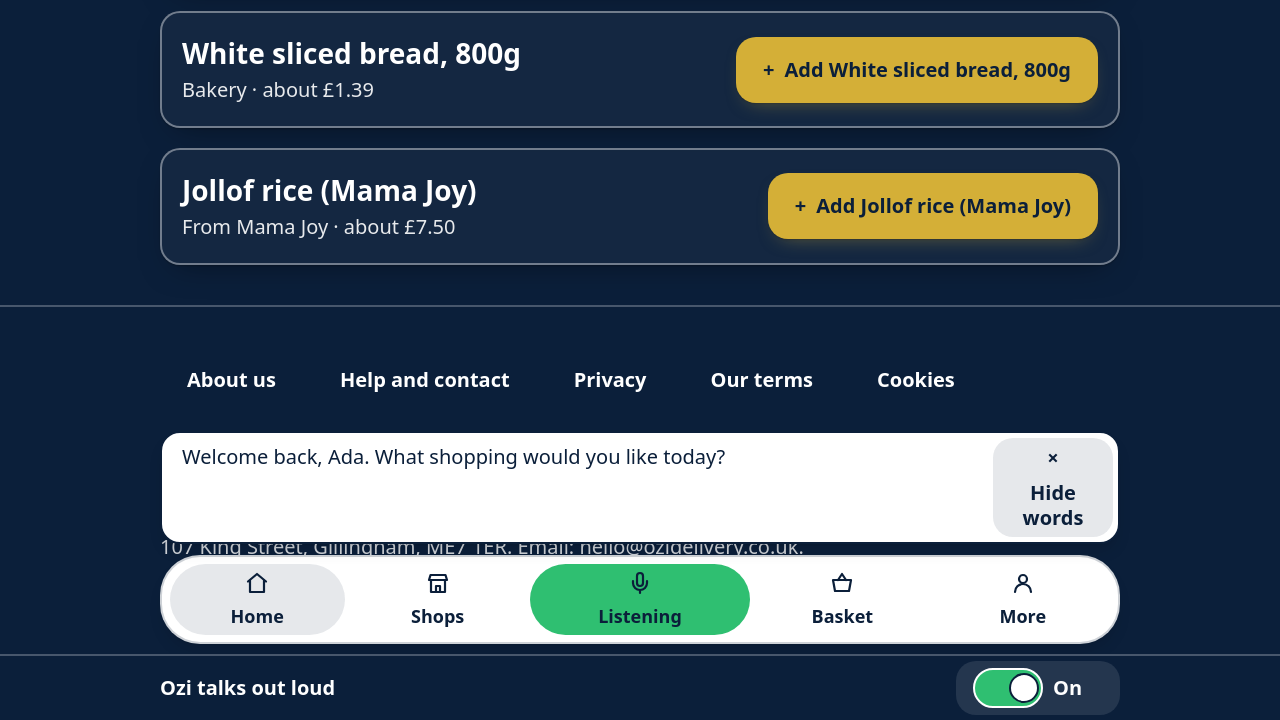
it: the checkout, and what stopped people › shows the whole breakdown before paying, and records the checkout it showed
The width and height of the screenshot is (1280, 720).
(page scrolled)
Click the button "+ Add Jollof rice (Mama Joy)": (933,206) [768,173,1098,239]
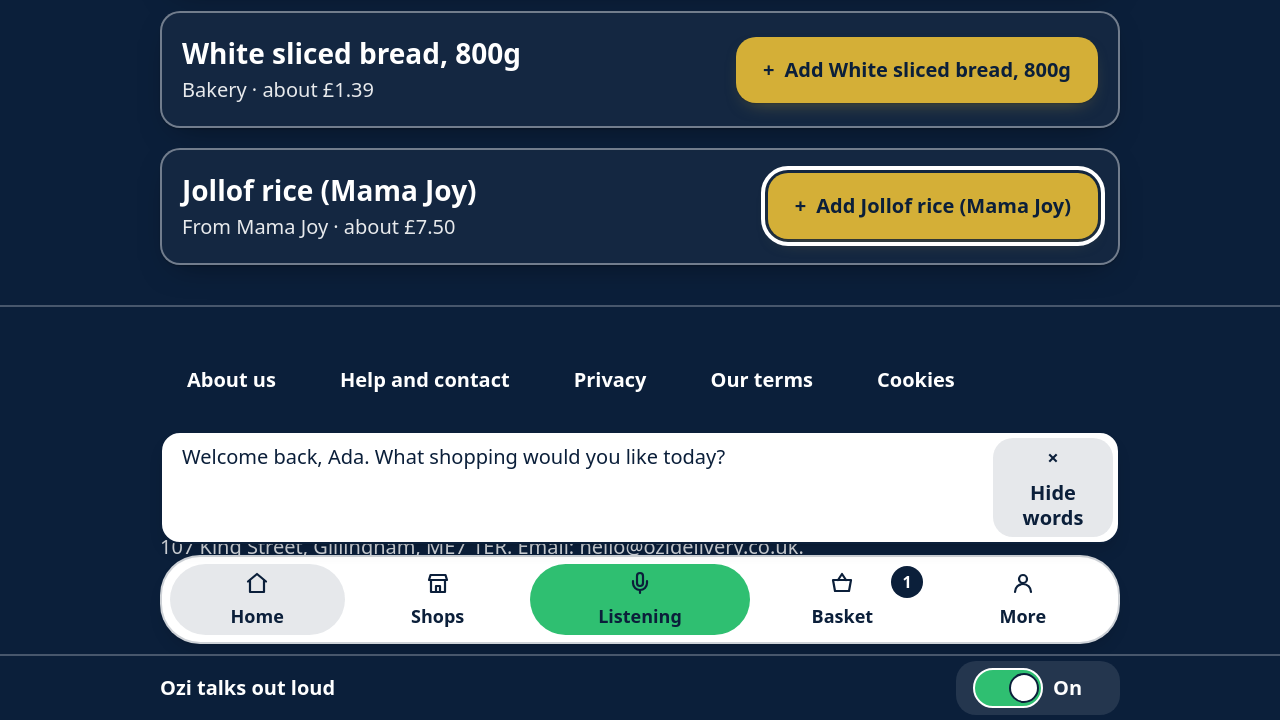
Click the button "+ Add Jollof rice (Mama Joy)": (933,206) [768,173,1098,239]
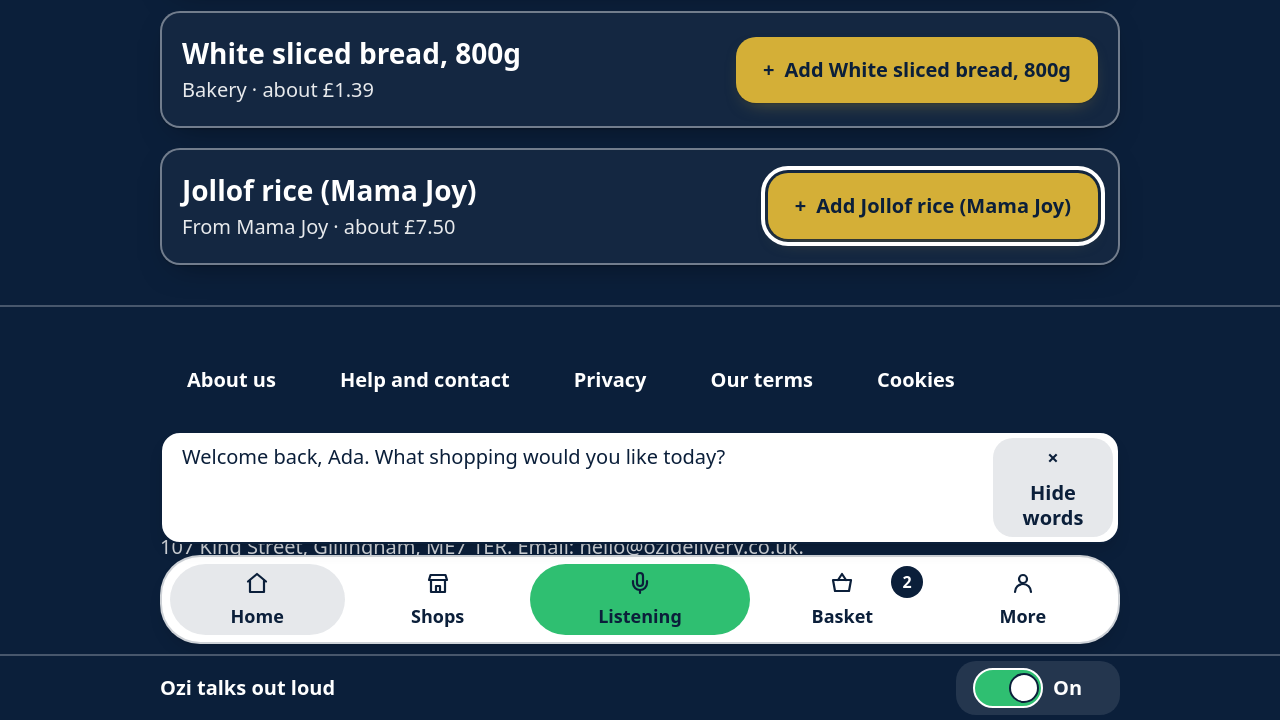
Click the link "Basket 2": (842,616) [812,566,923,628]
(page scrolled)
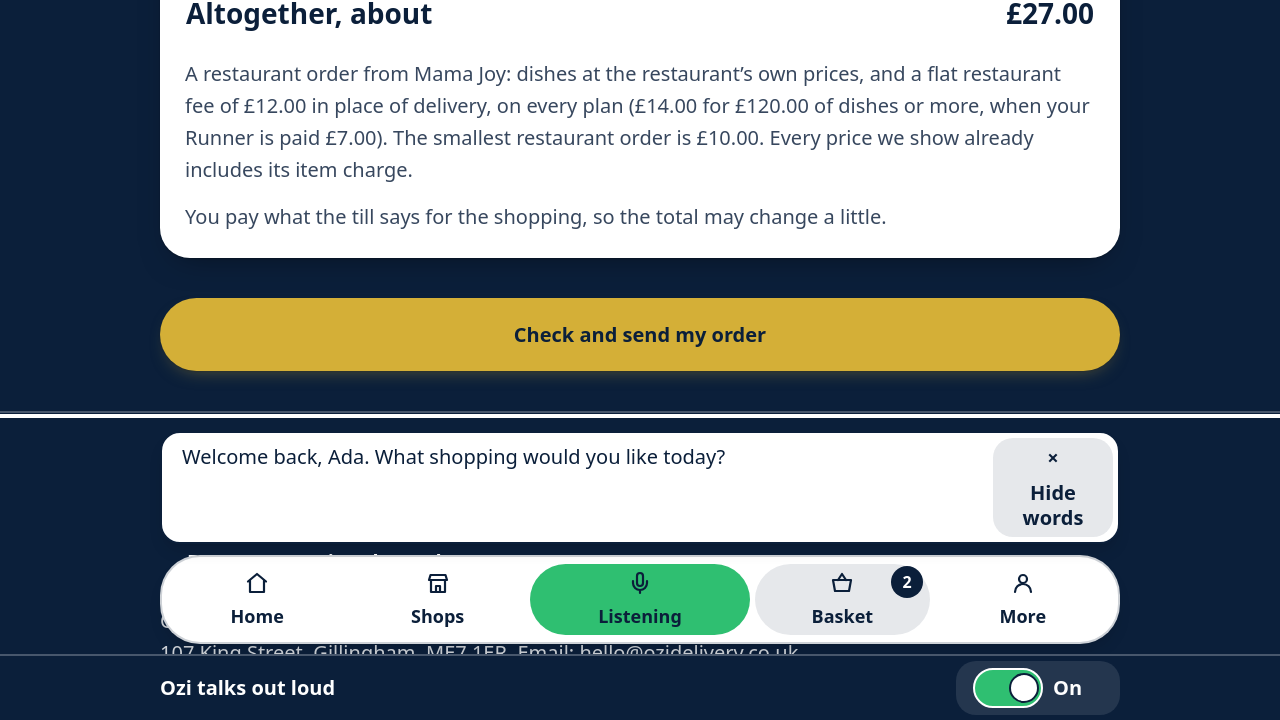
Click the link "Check and send my order": (640,335) [160,298,1120,371]
(page scrolled)
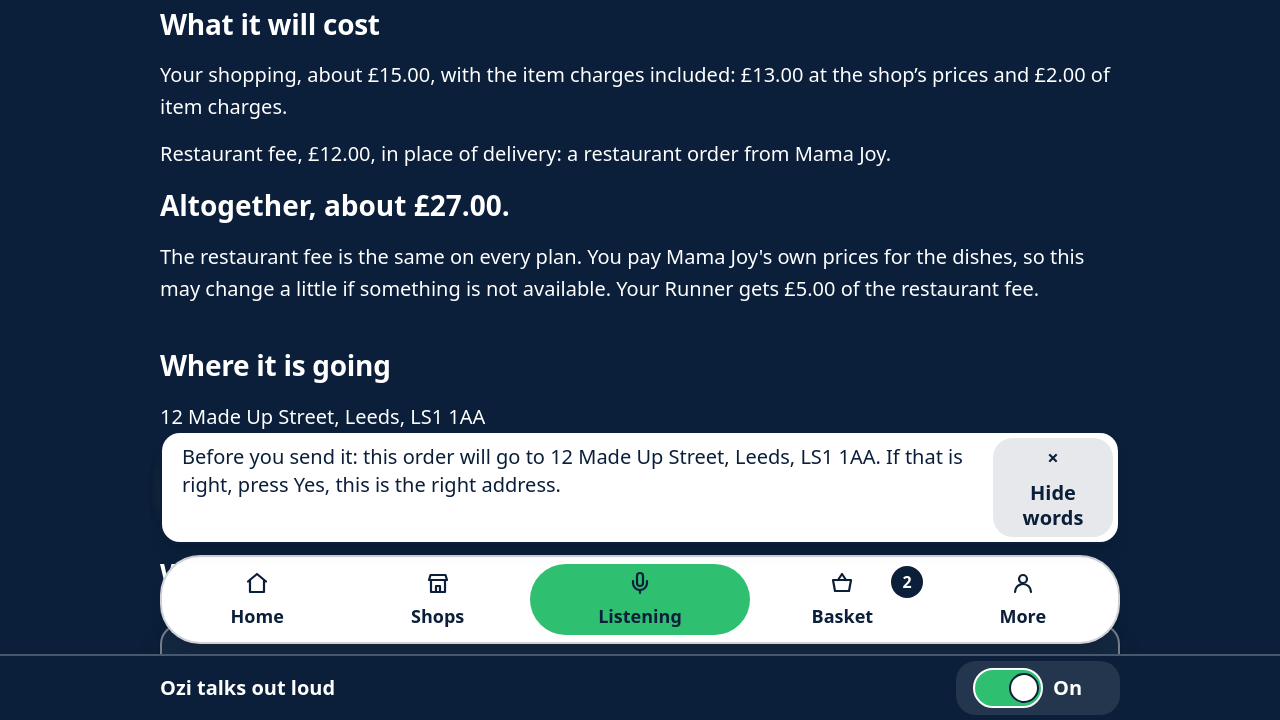
Now the text "Restaurant fee, £12.00, in place of delivery" is shown, box [160,140,891,167]
Now the text "£13.00 at the shop" is shown, box [160,59,1120,123]
Now the text "Altogether, about £27.00." is shown, box [160,186,510,224]
